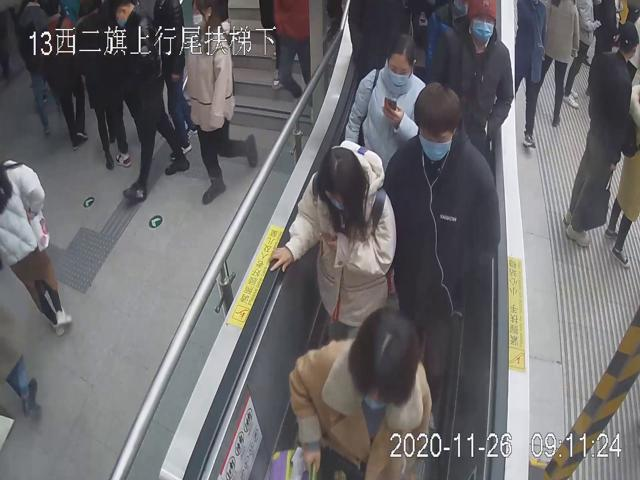person: (382, 79, 499, 402), (269, 137, 396, 344), (287, 307, 432, 480), (341, 28, 428, 176), (431, 0, 513, 157)
